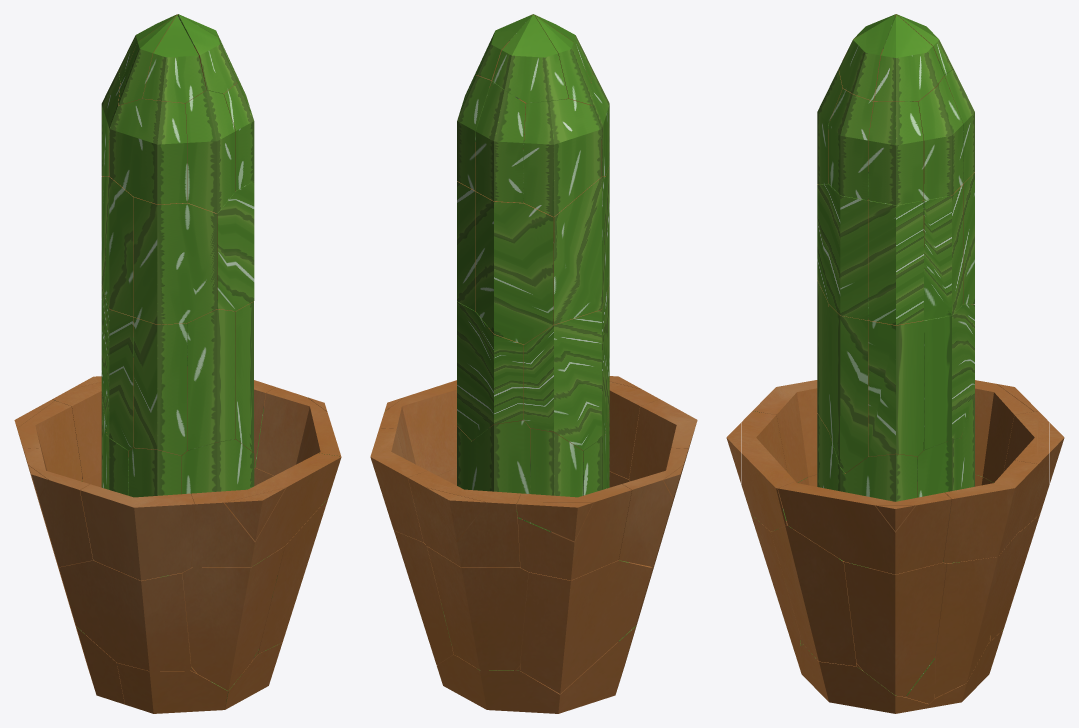
Rendered from vaso_gibs.fbx.
3 renders of one model, left to right at view 1: azimuth 30°, elevation 25°; view 2: azimuth 150°, elevation 25°; view 3: azimuth 270°, elevation 25°, orthographic.
Parts seen in each view (by area): view 1: vaso_cell.015, vaso_cell, vaso_cell.049, vaso_cell.047, vaso_cell.039, vaso_cell.022, vaso_cell.002, vaso_cell.014, vaso_cell.046, vaso_cell.006, vaso_cell.036, vaso_cell.021 (+19 smaller); view 2: vaso_cell.004, vaso_cell.032, vaso_cell.021, vaso_cell.024, vaso_cell.026, vaso_cell.027, vaso_cell.005, vaso_cell.030, vaso_cell.042, vaso_cell.023, vaso_cell.006, vaso_cell.016 (+19 smaller); view 3: vaso_cell.006, vaso_cell.010, vaso_cell.029, vaso_cell.003, vaso_cell.011, vaso_cell.012, vaso_cell.027, vaso_cell.036, vaso_cell.045, vaso_cell.018, vaso_cell.034, vaso_cell.028 (+23 smaller).
Boxes of the visible parts, box(x1,y1,x2,y2) form: vaso_cell.015: box(59, 560, 190, 671); vaso_cell: box(133, 197, 217, 324); vaso_cell.049: box(182, 546, 284, 690); vaso_cell.047: box(191, 453, 341, 567); vaso_cell.039: box(80, 484, 194, 580); vaso_cell.022: box(109, 99, 187, 204); vaso_cell.002: box(133, 317, 187, 455); vaso_cell.014: box(182, 309, 235, 455); vaso_cell.046: box(184, 90, 235, 213); vaso_cell.006: box(255, 387, 340, 475); vaso_cell.036: box(217, 181, 254, 311); vaso_cell.021: box(101, 285, 133, 450); vaso_cell.004: box(520, 560, 652, 693); vaso_cell.032: box(475, 191, 553, 344); vaso_cell.021: box(524, 297, 605, 450); vaso_cell.024: box(427, 546, 528, 670); vaso_cell.026: box(524, 99, 601, 216); vaso_cell.027: box(457, 301, 523, 440); vaso_cell.005: box(518, 484, 631, 580); vaso_cell.030: box(408, 471, 520, 567); vaso_cell.042: box(553, 176, 605, 324); vaso_cell.023: box(475, 81, 526, 202); vaso_cell.006: box(379, 380, 456, 475); vaso_cell.016: box(437, 655, 559, 713); vaso_cell.006: box(777, 481, 951, 574); vaso_cell.010: box(844, 561, 946, 696); vaso_cell.029: box(868, 320, 923, 456); vaso_cell.003: box(771, 525, 856, 666); vaso_cell.011: box(935, 532, 1019, 698); vaso_cell.012: box(868, 200, 923, 325); vaso_cell.027: box(923, 303, 974, 450); vaso_cell.036: box(817, 183, 868, 320); vaso_cell.045: box(943, 460, 1038, 563); vaso_cell.018: box(828, 304, 868, 473); vaso_cell.034: box(868, 101, 923, 205); vaso_cell.028: box(923, 184, 963, 320).
Bounding box in the file's own units: 180 × 388 × 180.
Materials: 1 (1 with a texture image).
